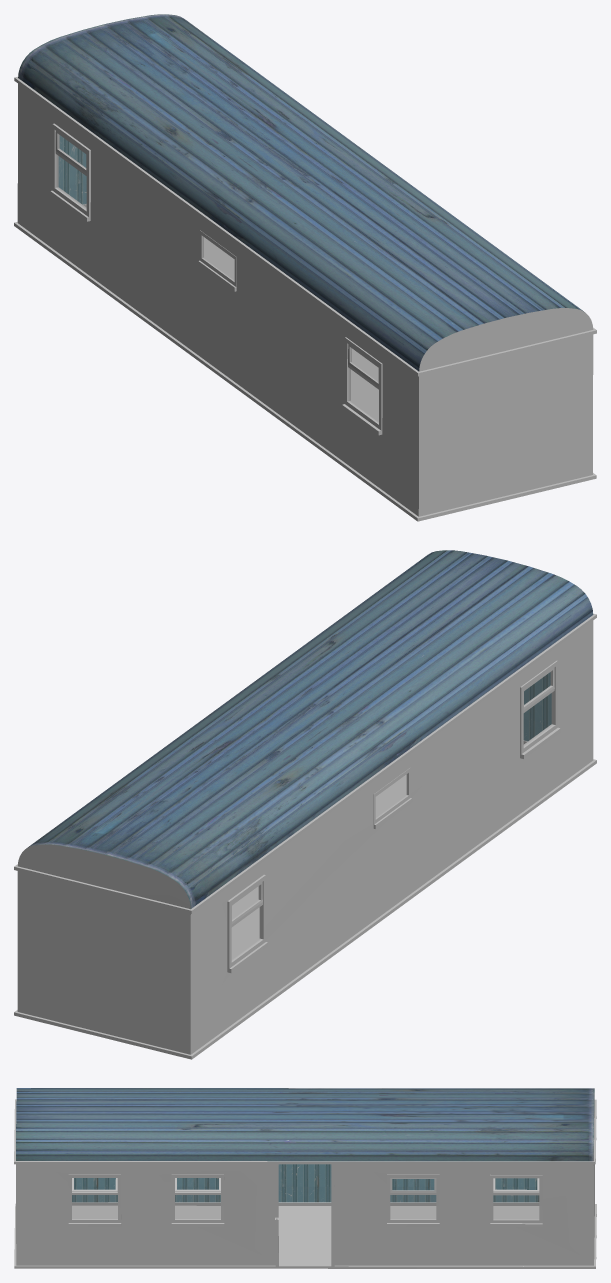
The model's file is CargoHouse02.FBX.
3 views of the same model, one above another, from view 1: azimuth 30°, elevation 25°; view 2: azimuth 150°, elevation 25°; view 3: azimuth 270°, elevation 25° (orthographic). The views are drawn at different scales.
Visible parts, largest first — view 1: CargoHouse02; view 2: CargoHouse02; view 3: CargoHouse02.
Part boxes in pixels (bbox=[...]): CargoHouse02: bbox=[14, 14, 596, 521]; CargoHouse02: bbox=[14, 550, 596, 1059]; CargoHouse02: bbox=[14, 1088, 596, 1268].
Size of the model in its own units: 128 by 119 by 482.
